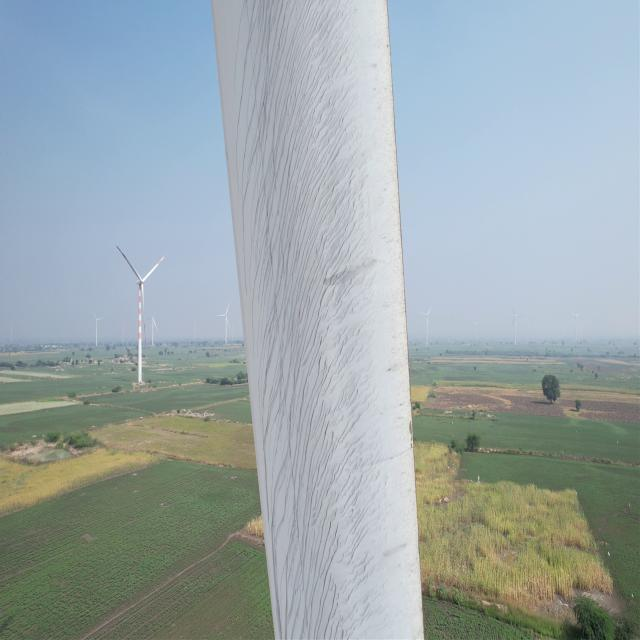Dirt: (214, 0, 424, 640)
